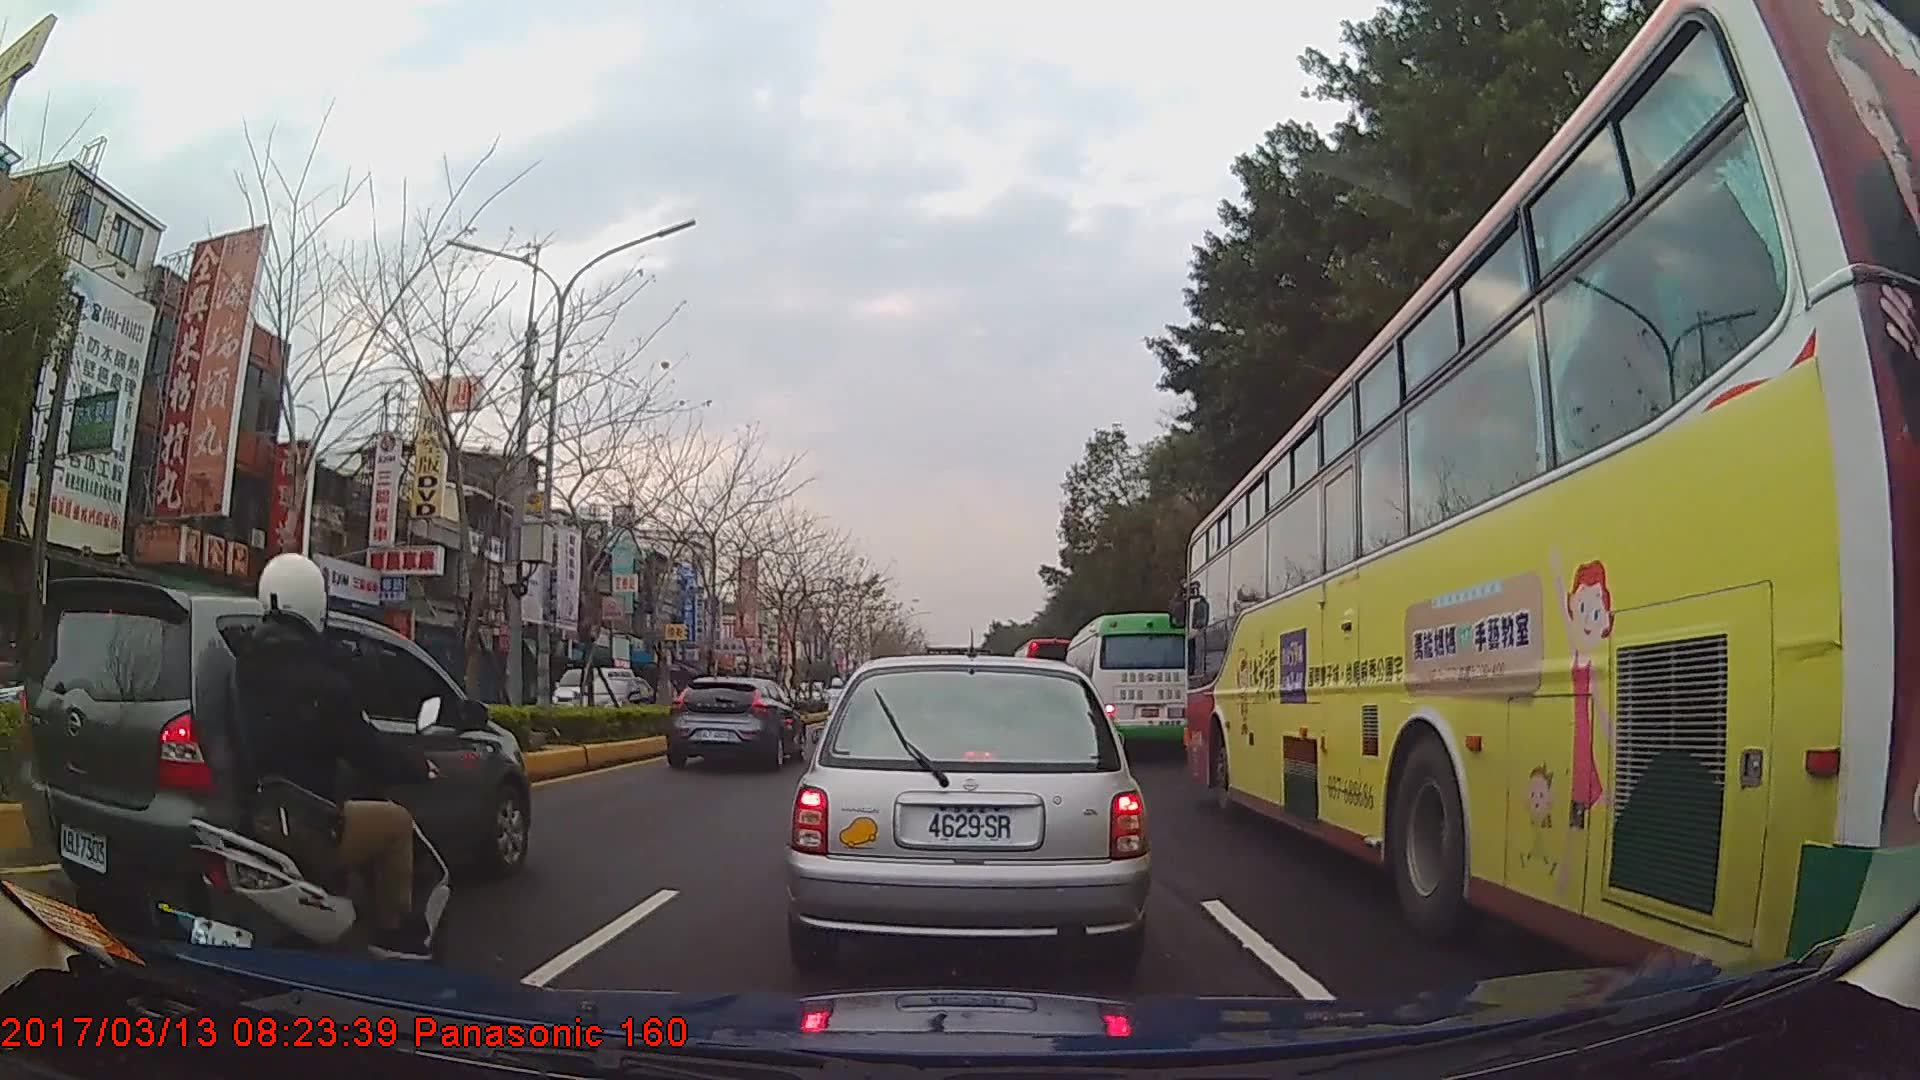rider: (193, 547, 449, 998), (823, 676, 851, 738)
vehicle: (1185, 0, 1920, 980), (17, 577, 531, 928), (787, 652, 1151, 978), (1061, 612, 1196, 761), (662, 672, 805, 775), (560, 675, 659, 728)
